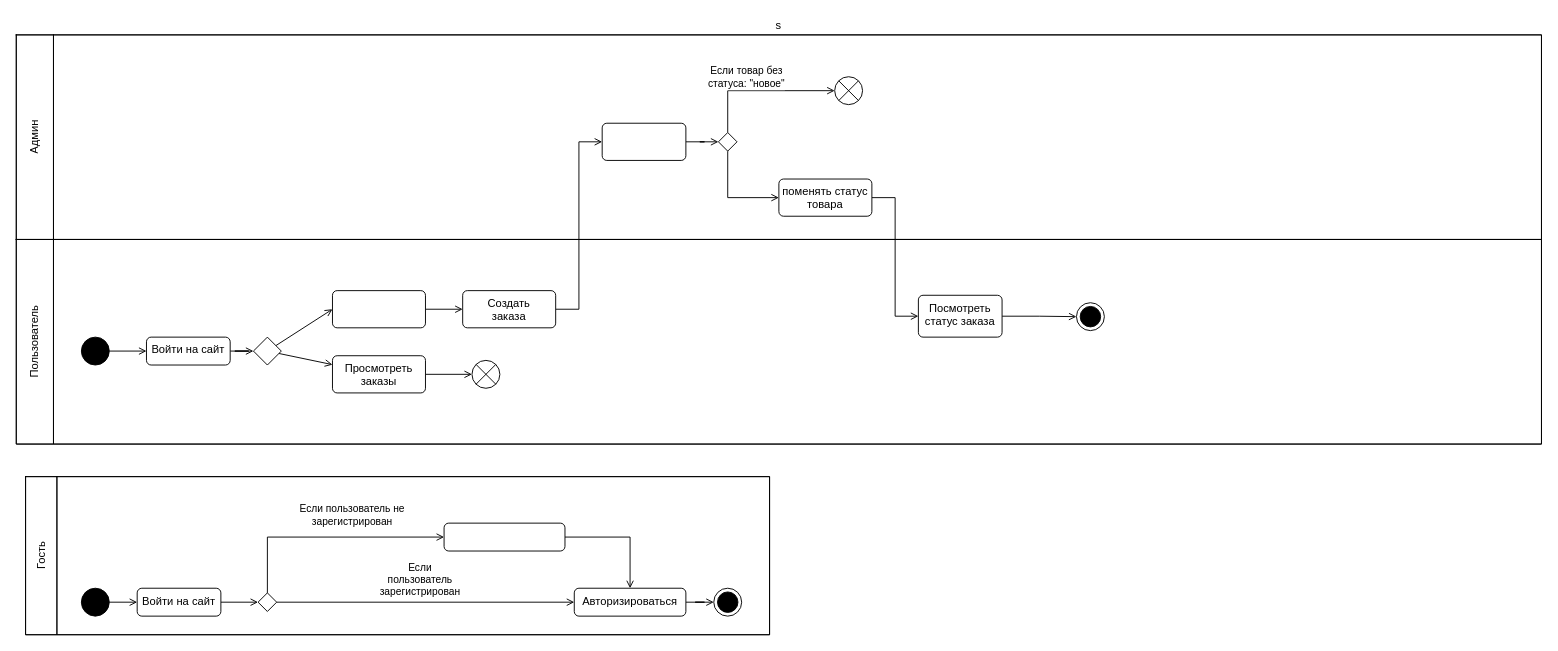
Image size: 1558x651. Some labels were removed from this diagram. The shapes that lost their labels are listed below. From the top down, each one's centre as x and y in pixels, then its label:
point (643, 141): Посмотреть заказы
point (378, 309): Просмотреть товар
point (504, 536): Зарегистртроваться
